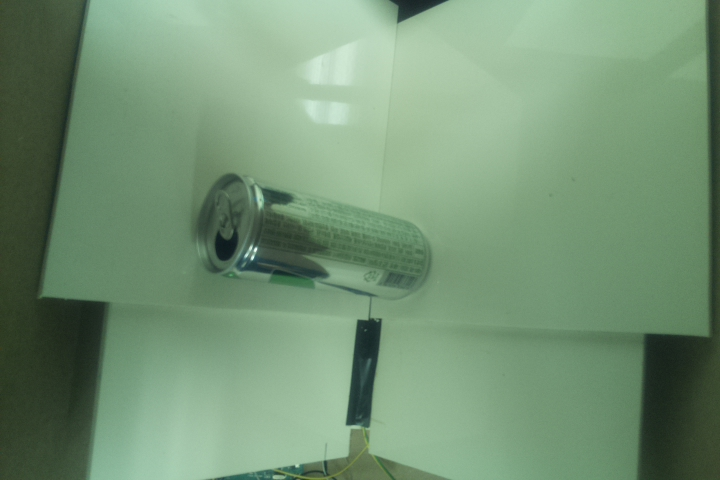can: (190, 168, 433, 302)
